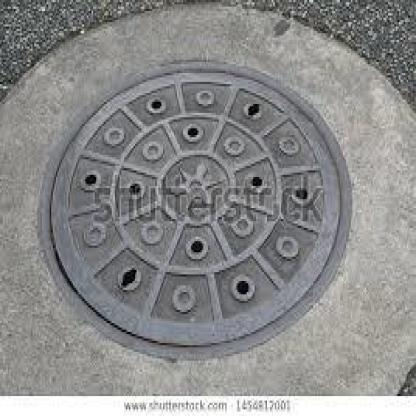manholes: (25, 58, 363, 372)
